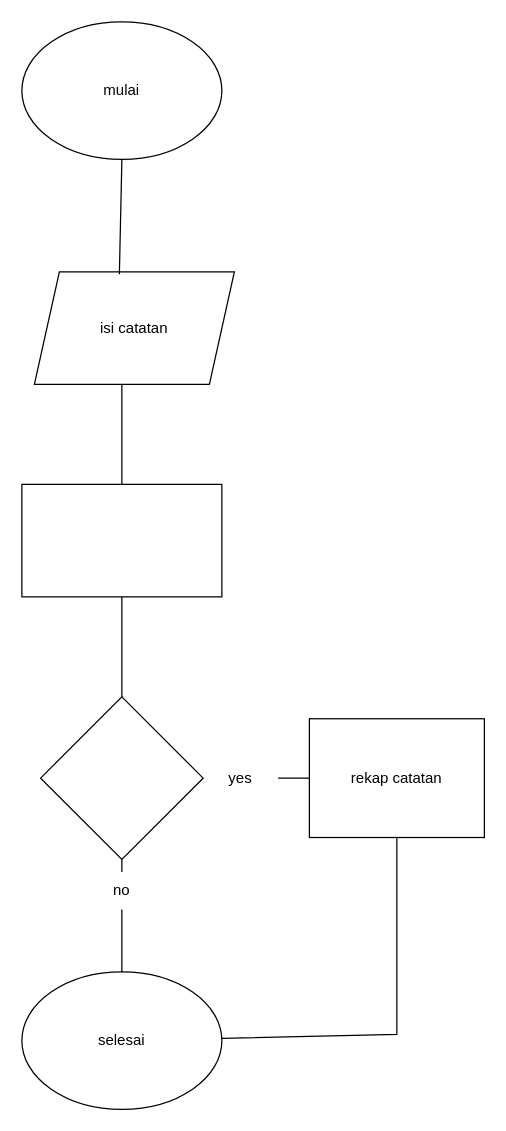
Some shapes in this 506 by 1131 pixel diagram are drawn without their labels. The shapes that lost their labels are listed below. From the top down, each one's box as (x1, y1, x2, y2) in pixels, then its label:
(21, 483, 222, 597): menyimpan catatan pengunjung
(39, 696, 203, 859): anggota perpustakaan
